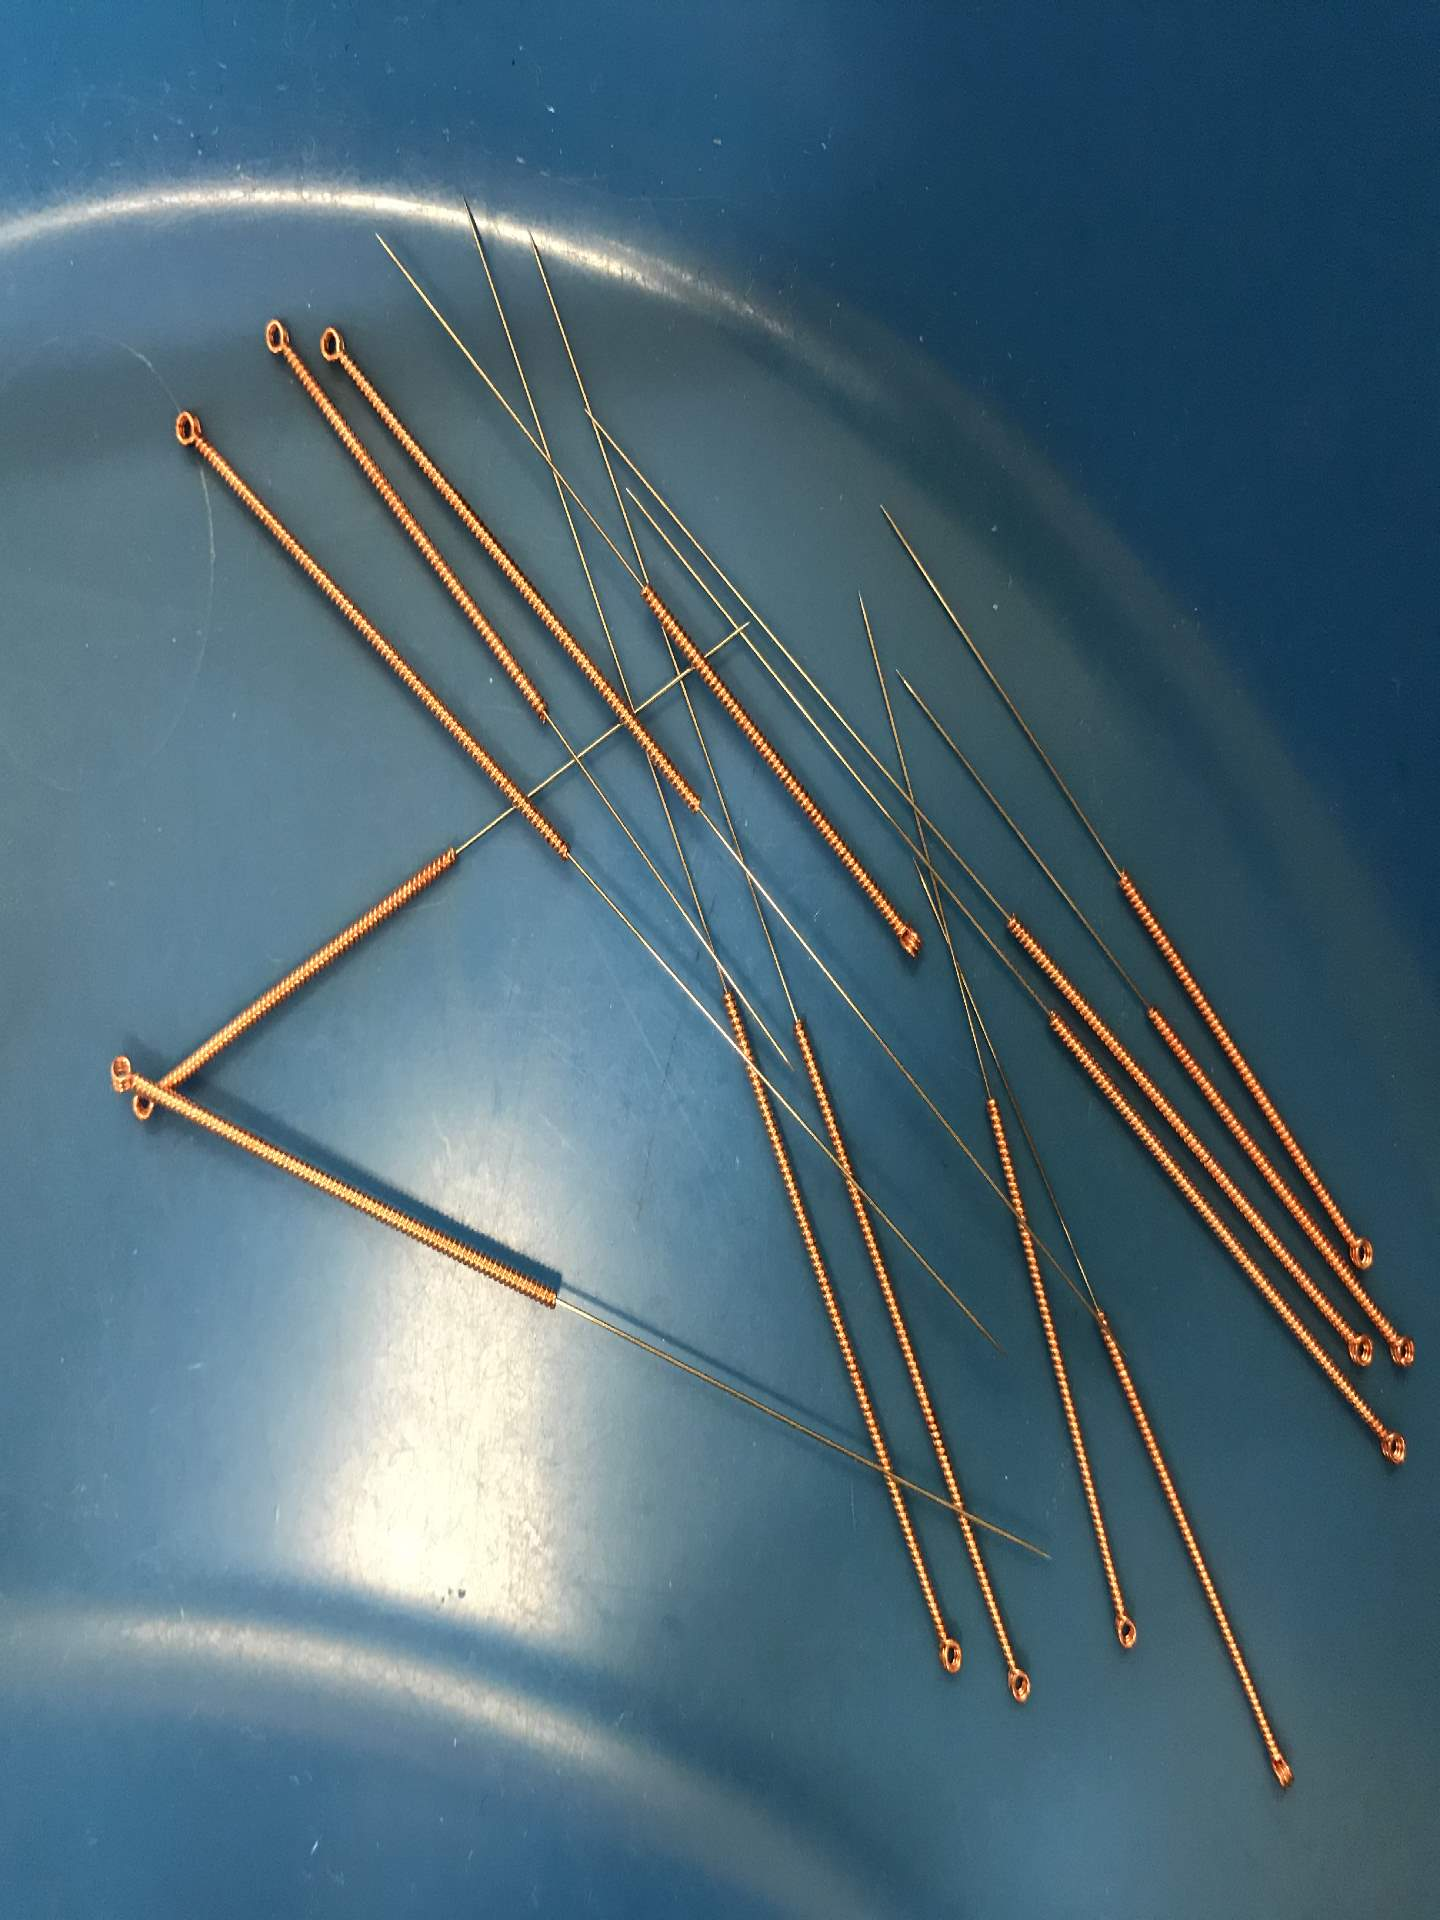needle: (1249, 1730, 1311, 1807), (156, 396, 215, 464), (989, 1646, 1048, 1714), (247, 302, 304, 370), (1364, 1412, 1422, 1479), (921, 1618, 976, 1683), (1094, 1603, 1153, 1661), (877, 910, 935, 971), (309, 316, 355, 373), (1379, 1321, 1426, 1376), (1339, 1321, 1386, 1374), (1342, 1219, 1383, 1274), (95, 1043, 136, 1098), (127, 1089, 160, 1126)
